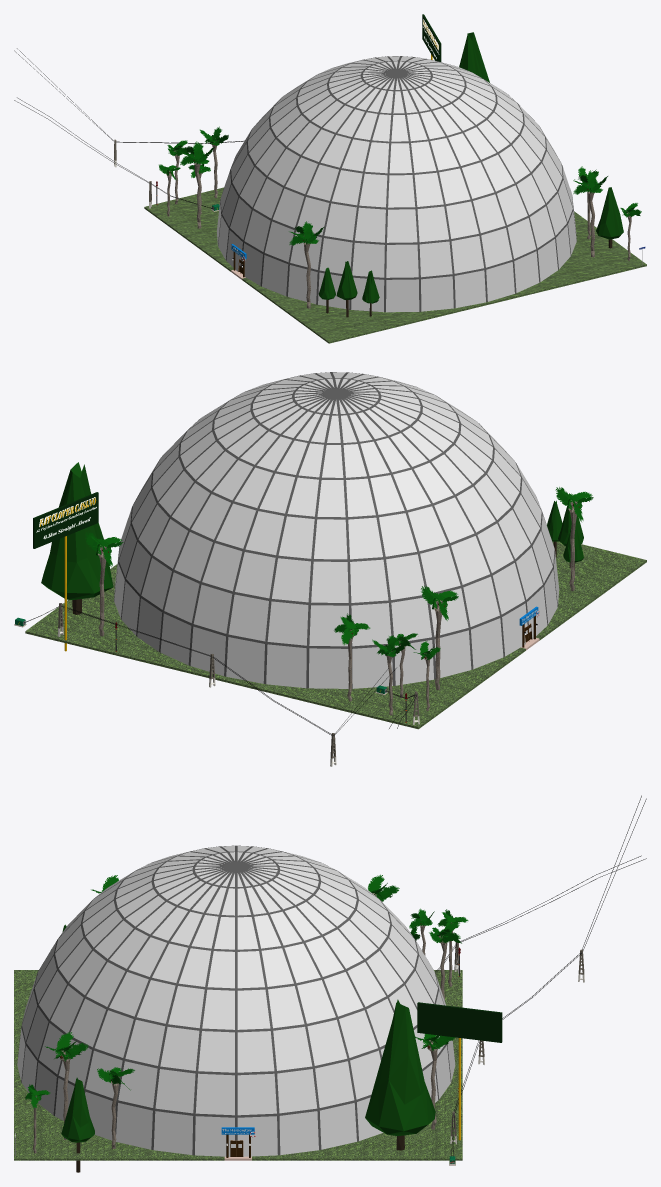
Rendered from Arboretum.glb.
The picture shows the model from 3 angles, top to bottom: view 1: azimuth 30°, elevation 25°; view 2: azimuth 150°, elevation 25°; view 3: azimuth 270°, elevation 25°; orthographic projection. The views are drawn at different scales.
Visible parts, largest first — view 1: Glass, Ground, Palm Trees, Pine Tress, LV Wires; view 2: Glass, Ground, Pine Tress, Palm Trees, Billboard, LV Wires, LV Pole, Text.002; view 3: Glass, Ground, Pine Tress, Palm Trees, Billboard, LV Wires, LV Pole.
Part boxes in pixels (x1,y1,x2,y2): Glass: (216, 56, 576, 312); Ground: (144, 187, 646, 343); Palm Trees: (159, 126, 641, 308); Pine Tress: (318, 32, 623, 317); LV Wires: (14, 48, 244, 208); Glass: (114, 372, 559, 688); Ground: (25, 541, 646, 729); Pine Tress: (41, 462, 583, 614); Palm Trees: (85, 487, 593, 715); Billboard: (33, 492, 98, 548); LV Wires: (24, 606, 416, 735); LV Pole: (57, 603, 419, 766); Text.002: (36, 497, 96, 538); Glass: (17, 845, 455, 1156); Ground: (14, 970, 462, 1160); Pine Tress: (51, 924, 435, 1172); Palm Trees: (25, 874, 468, 1153); Billboard: (417, 1002, 502, 1042); LV Wires: (435, 795, 646, 1155); LV Pole: (450, 942, 584, 1144).
Size of what is drawn, in the model's own units: 75.36 by 33.24 by 88.03.
Materials: 48 (3 with a texture image).
